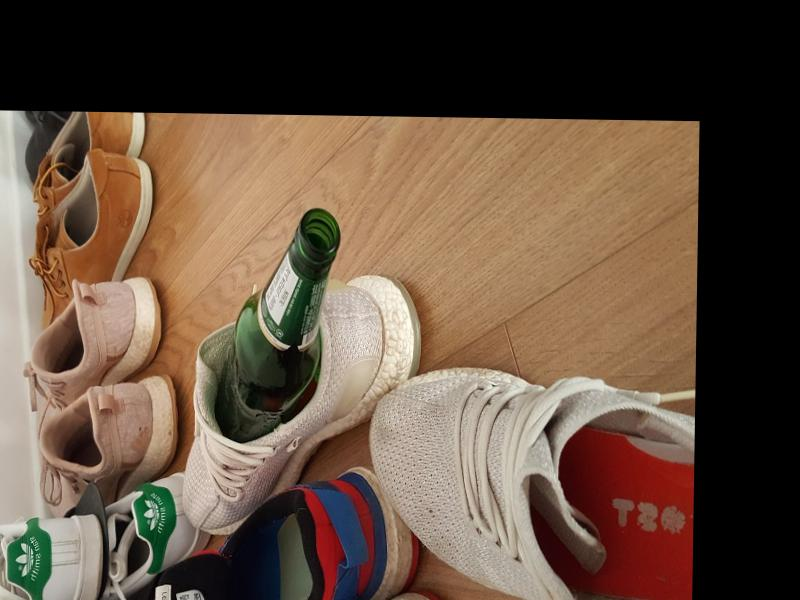Beer: (210, 206, 340, 445)
